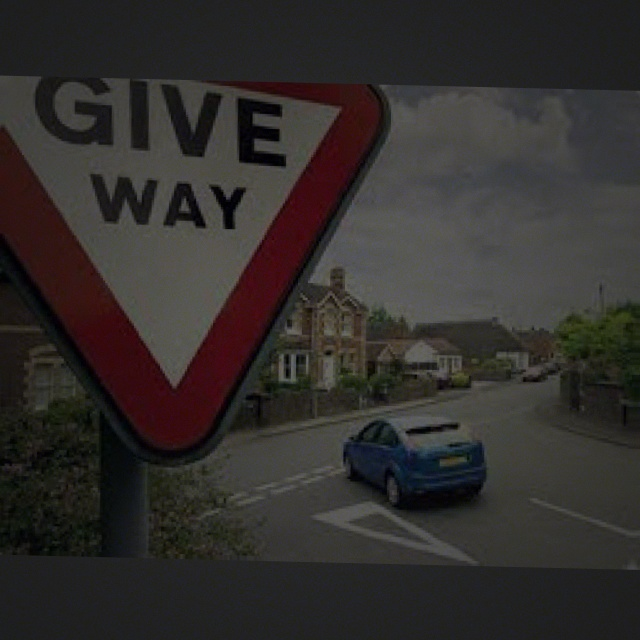Give_Way: (4, 75, 363, 406)
